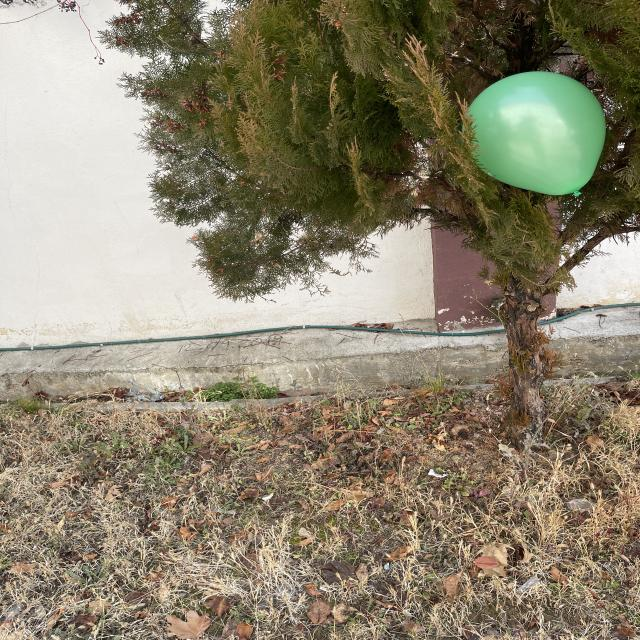balloon: (468, 72, 605, 195)
